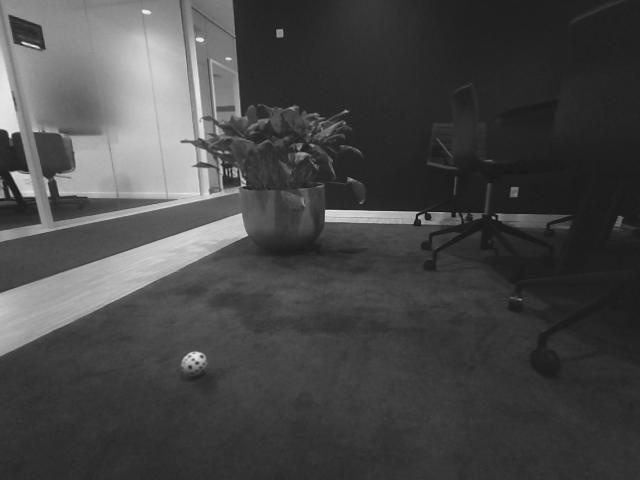dogtoy: (171, 345, 217, 385)
